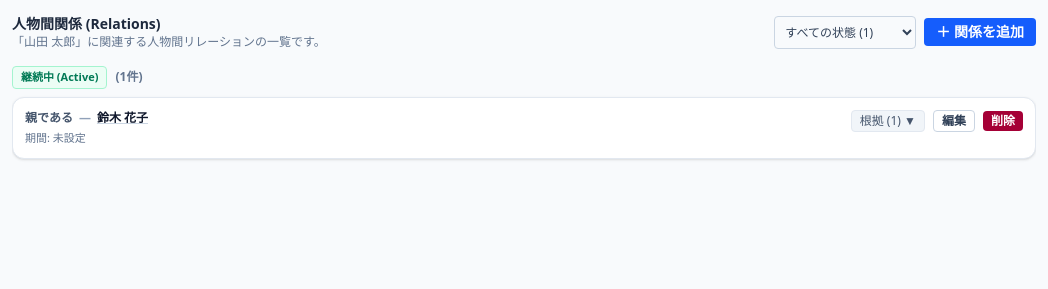
Test case: Person Relations UI Components › PersonRelationsSection collapses expanded relations on person change
Click the button "根拠 (1) ▼": point(888, 120) [851, 110, 925, 132]
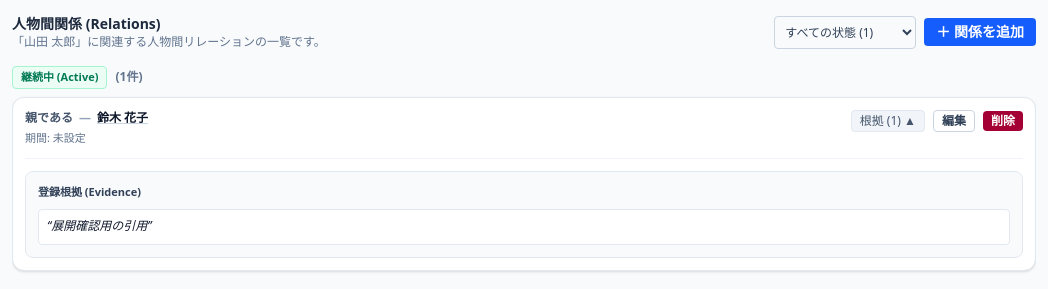
Result: the text "展開確認用の引用" is shown at [51, 216, 147, 234]
